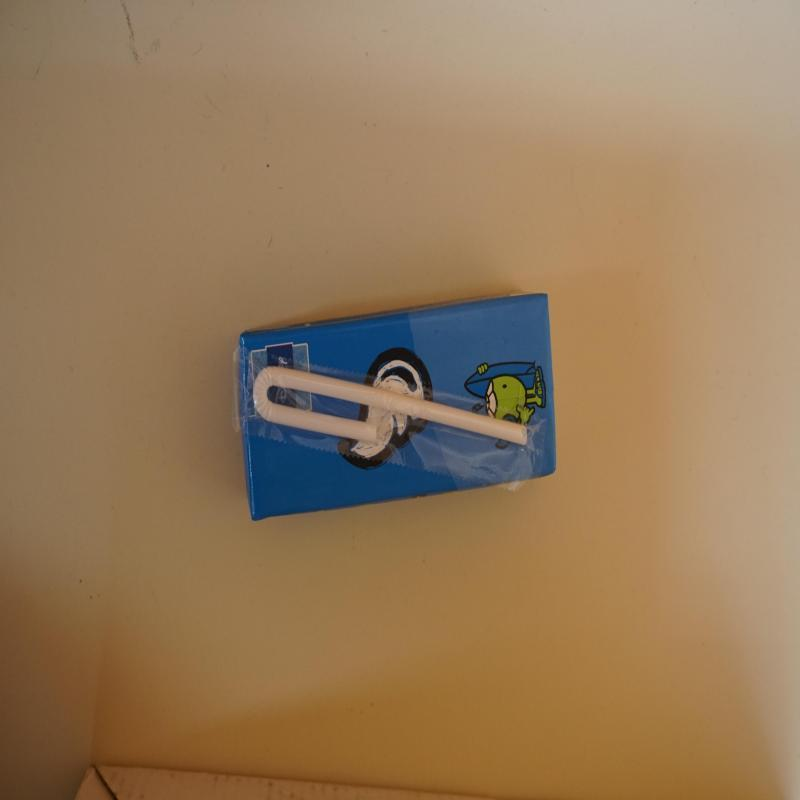CoconutWater: (235, 294, 558, 524)
